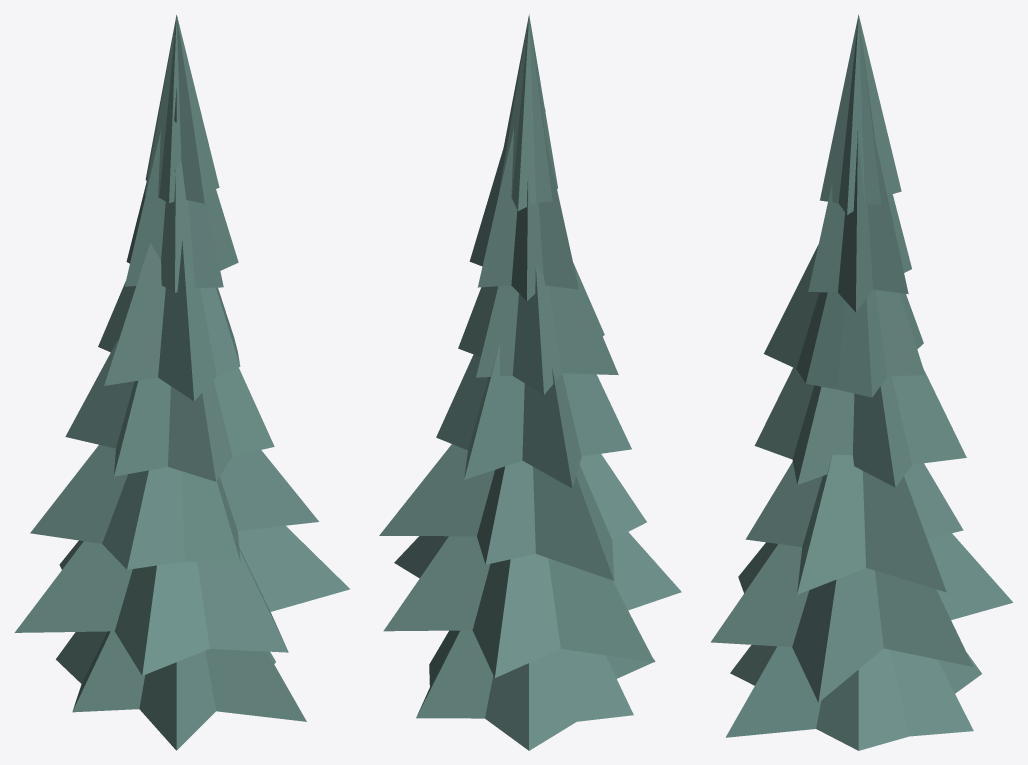
File: scots-pine-young.glb
3 views of the same model, side by side, from view 1: azimuth 30°, elevation 25°; view 2: azimuth 150°, elevation 25°; view 3: azimuth 270°, elevation 25° (orthographic). The views are drawn at different scales.
Visible parts, largest first — view 1: scots-pine-young; view 2: scots-pine-young; view 3: scots-pine-young.
Part boxes in pixels (x1,y1,x2,y2): scots-pine-young: [14, 15, 349, 750]; scots-pine-young: [379, 14, 681, 750]; scots-pine-young: [711, 14, 1012, 750].
Size of the model in its own units: 1.65 by 3.69 by 1.42.
